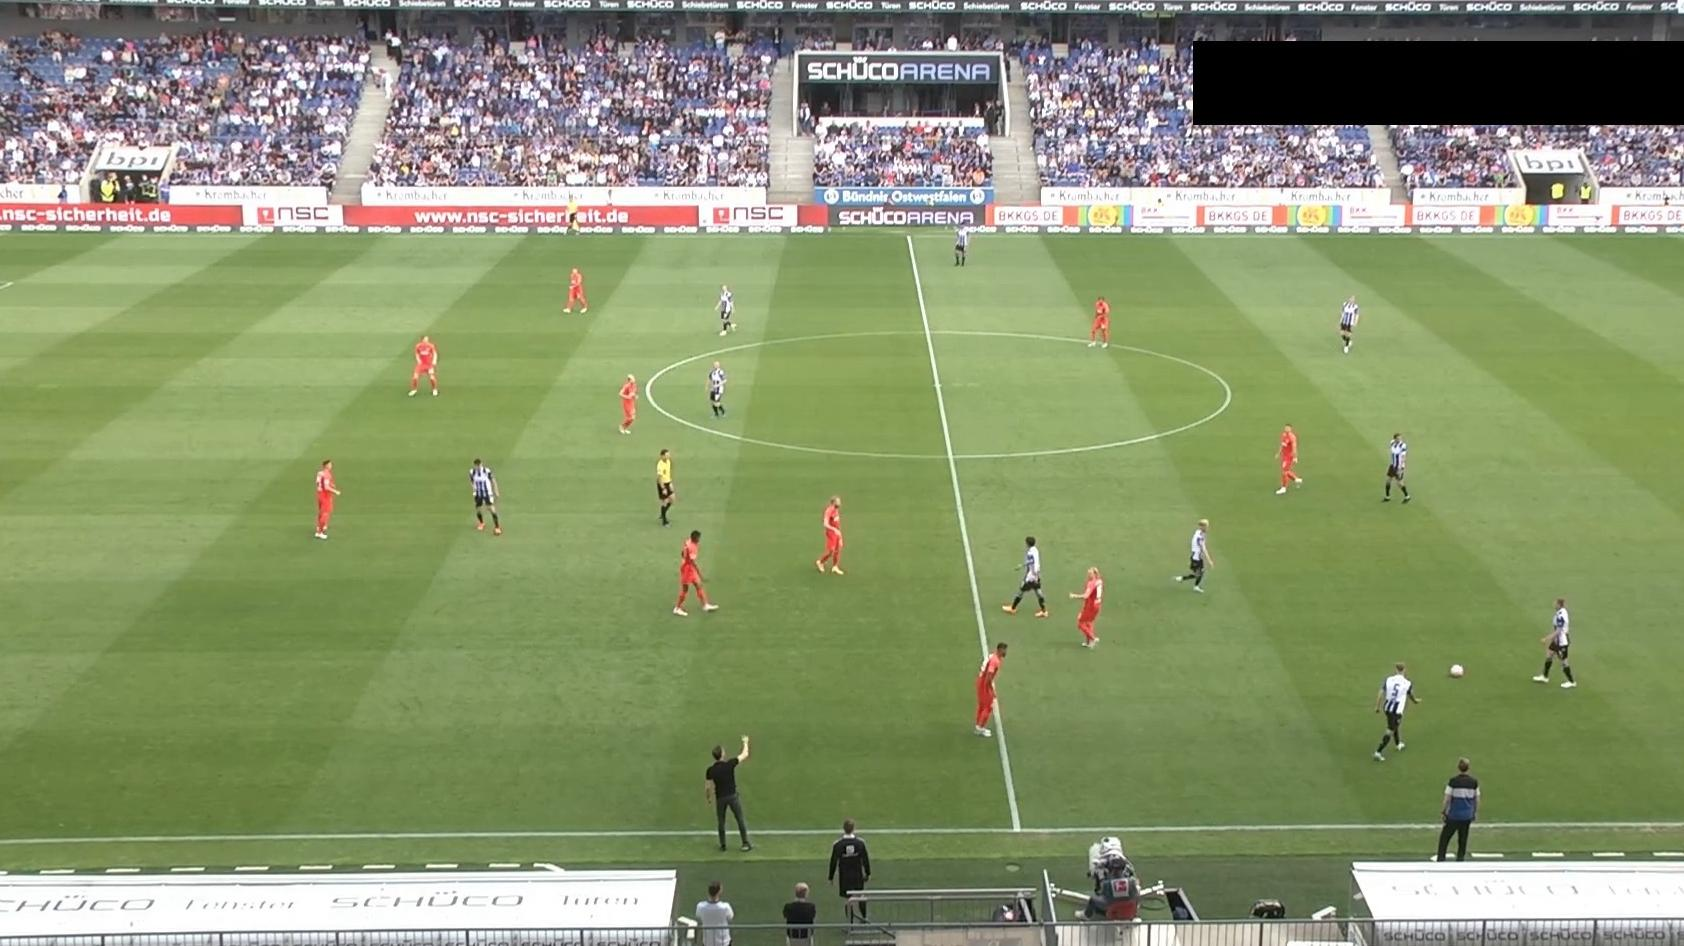ball: (1448, 663, 1464, 680)
